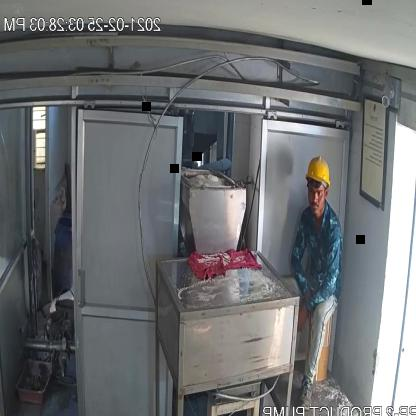helmet: (303, 157, 332, 197)
